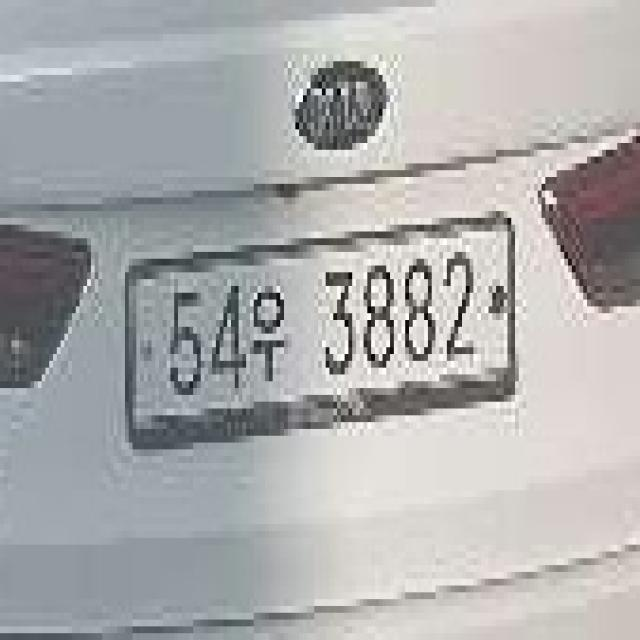2: (443, 252, 485, 368)
3: (314, 259, 356, 374)
4: (208, 266, 250, 388)
5: (152, 279, 204, 395)
8: (356, 245, 398, 381), (401, 245, 443, 368)
license_plate: (121, 204, 519, 456)
u: (247, 266, 296, 381)
